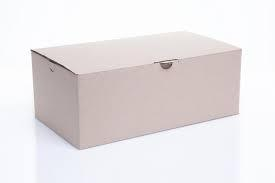box: (30, 31, 242, 152)
